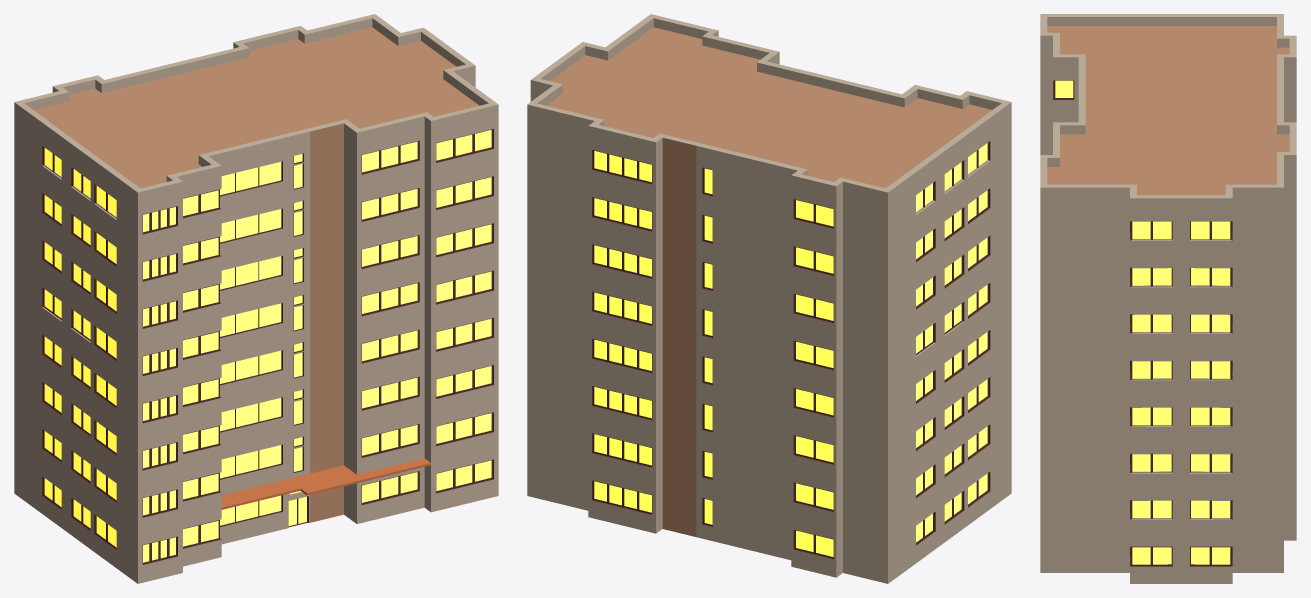
File: SM_House_01.glb
3 renders of one model, left to right at view 1: azimuth 30°, elevation 25°; view 2: azimuth 150°, elevation 25°; view 3: azimuth 270°, elevation 25°, orthographic.
Visible parts, largest first — view 1: SM_House_01; view 2: SM_House_01; view 3: SM_House_01.
Boxes of the visible parts, x1,y1,x2,y2 form: SM_House_01: [14, 14, 498, 583]; SM_House_01: [527, 14, 1011, 583]; SM_House_01: [1040, 14, 1296, 583].
Size of the model in its own units: 18.7 by 18.24 by 11.
Materials: 2 (1 with a texture image).
